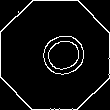O_W: (23, 25, 87, 85)
